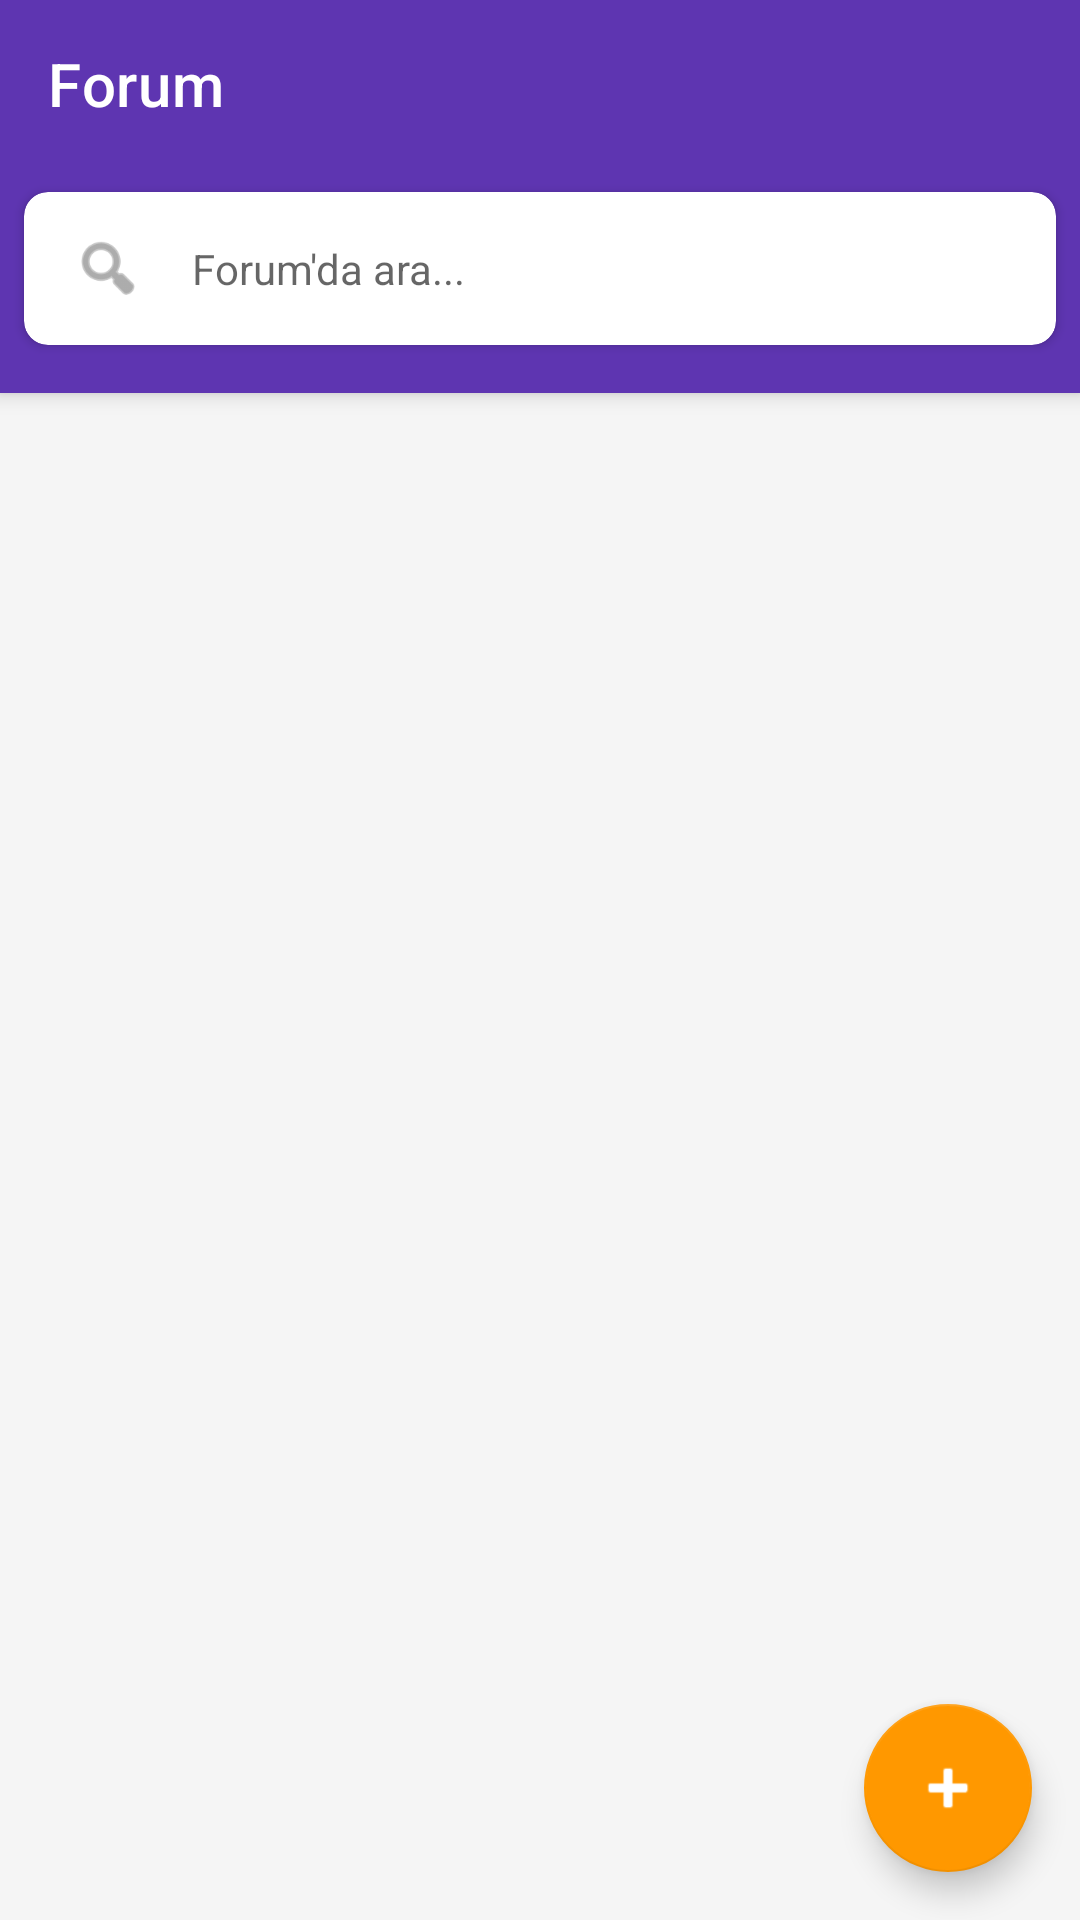

Icon click points for this 1080x1920 phone screenshot, format (x,y):
Gönderi Ekle: (948,1788)
search: (108,268)
